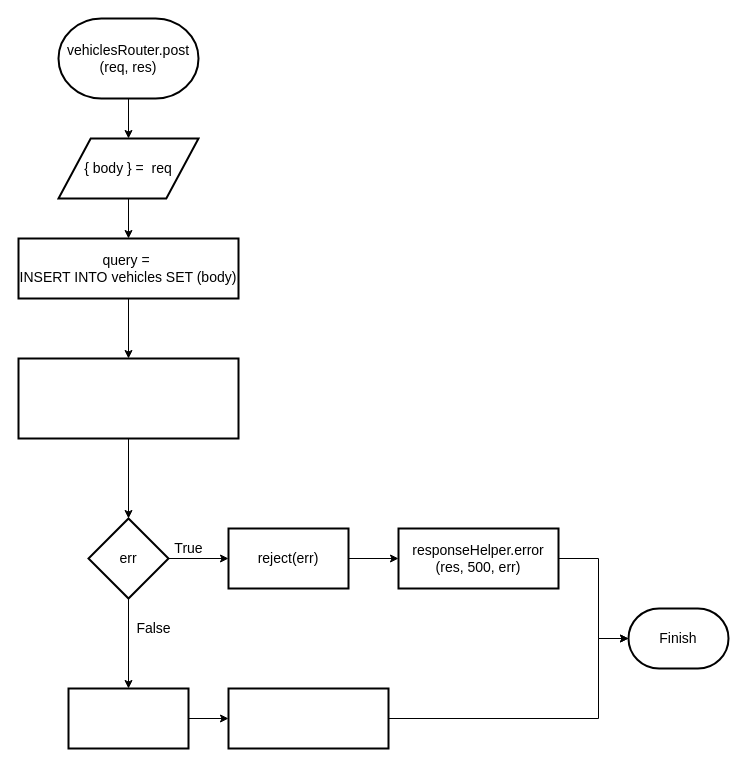
This 746x766 diagram has some shape labels left out. Each missing label, with the centre of its shape:
promise(resolve, reject) db.query(query, body, (err, result): point 128,398
resolve(result): point 128,718
responseHelper.success (res, 200, data): point 308,718
